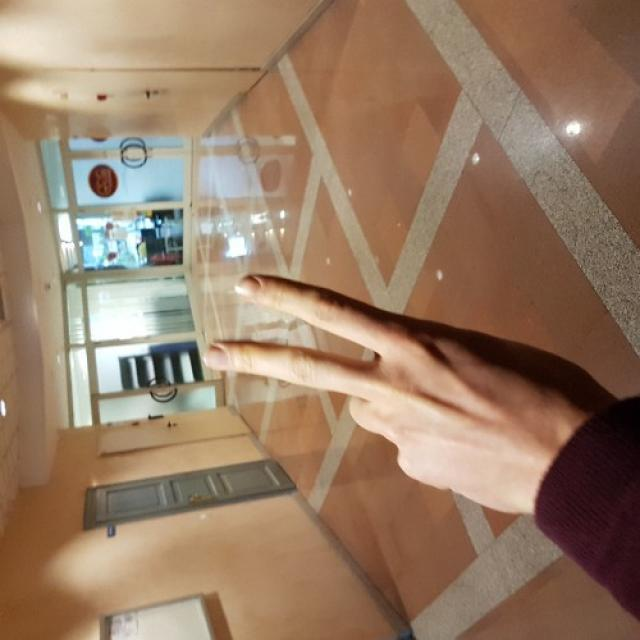scissors: (204, 272, 532, 467)
